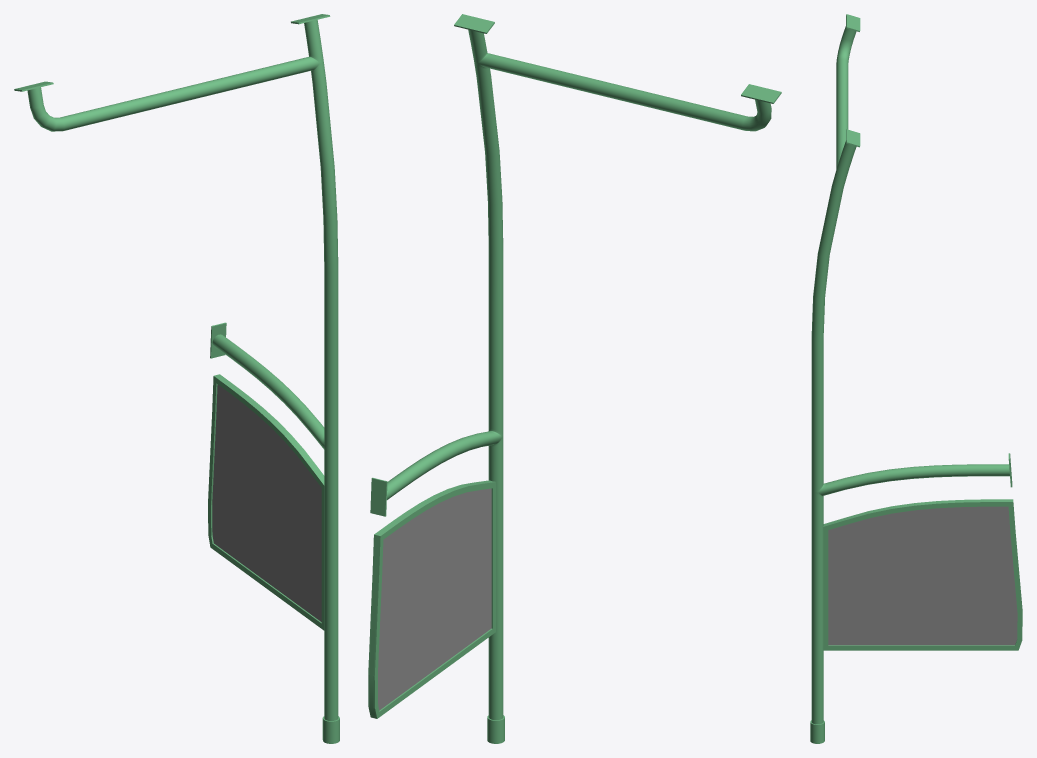
File: Pole_Bend_L.FBX
3 views of the same model, side by side, from view 1: azimuth 30°, elevation 25°; view 2: azimuth 150°, elevation 25°; view 3: azimuth 270°, elevation 25° (orthographic). The views are drawn at different scales.
Visible parts, largest first — view 1: Pole_Bend; view 2: Pole_Bend; view 3: Pole_Bend.
Part boxes in pixels (left/top/right/bottom): Pole_Bend: left=14, top=14, right=339, bottom=743; Pole_Bend: left=368, top=14, right=781, bottom=743; Pole_Bend: left=810, top=14, right=1022, bottom=743.
Size of the model in its own units: 0.9557 by 2.1 by 0.6691.
